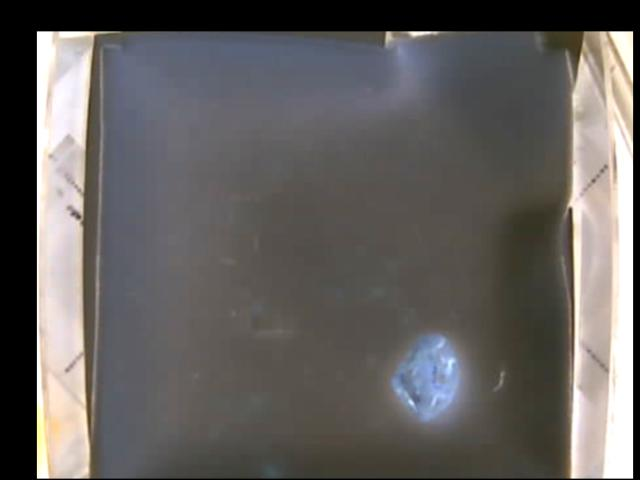Pebble: (391, 330, 458, 419)
